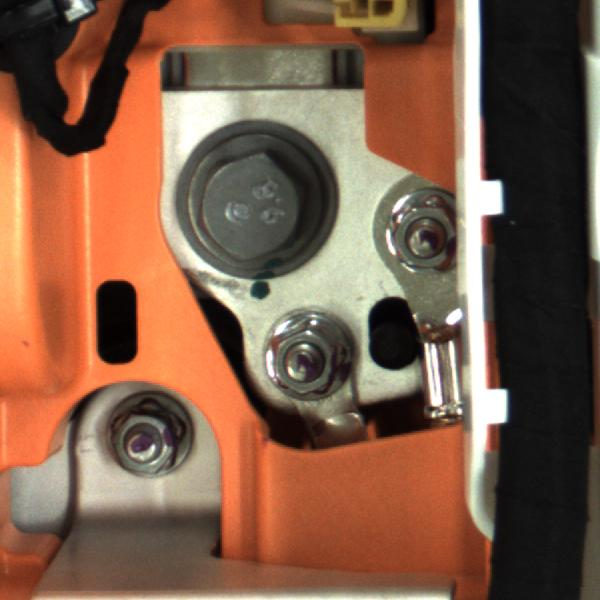nut_b: (164, 135, 331, 272)
screw_s: (252, 300, 356, 404), (99, 388, 207, 478), (377, 180, 467, 283)
